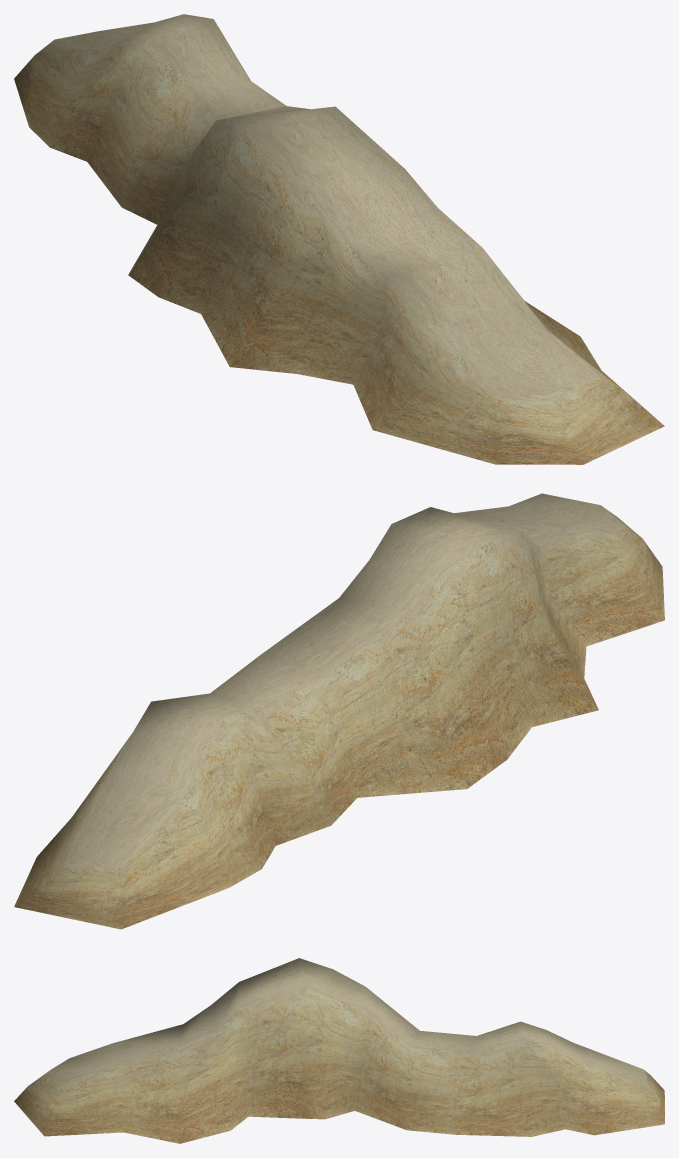
The model's file is rock_beach_spine_a2_l3.fbx.
3 renders of one model, top to bottom at view 1: azimuth 30°, elevation 25°; view 2: azimuth 150°, elevation 25°; view 3: azimuth 270°, elevation 25°, orthographic. The views are drawn at different scales.
Parts seen in each view (by area): view 1: mesh_node; view 2: mesh_node; view 3: mesh_node.
Boxes of the visible parts, x1=… form: mesh_node: x1=14, y1=14, x2=664, y2=464; mesh_node: x1=14, y1=493, x2=664, y2=929; mesh_node: x1=14, y1=958, x2=664, y2=1143.
Size of the model in its own units: 5.49 by 3.38 by 17.11.
